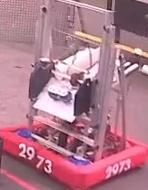red_number: (17, 140, 55, 176), (102, 156, 132, 180)
